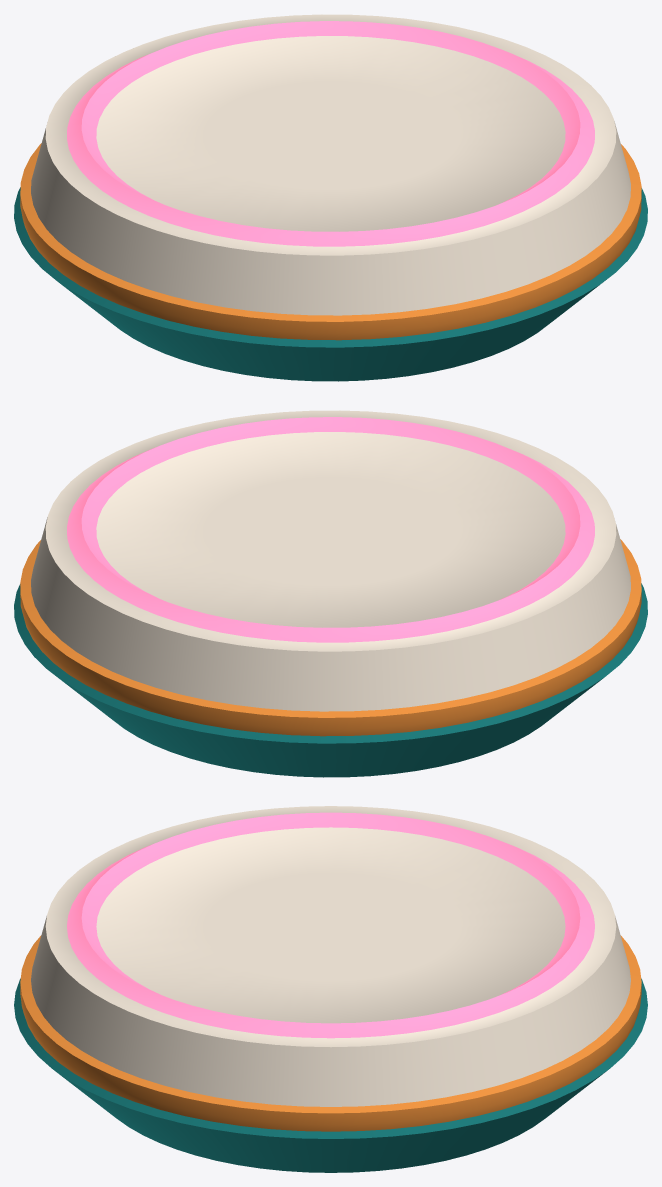
The model's file is podium.glb.
3 views of the same model, one above another, from view 1: azimuth 30°, elevation 25°; view 2: azimuth 150°, elevation 25°; view 3: azimuth 270°, elevation 25° (orthographic).
Visible parts, largest first — view 1: podium; view 2: podium; view 3: podium.
Part boxes in pixels (x1,y1,x2,y2): podium: (14,14,647,381); podium: (14,410,647,777); podium: (14,806,647,1172).
Bounding box in the file's own units: 3 × 0.795 × 3.
